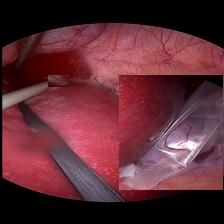Irrigator: (47, 76, 68, 88)
Specimen Bag: (118, 75, 222, 190)
